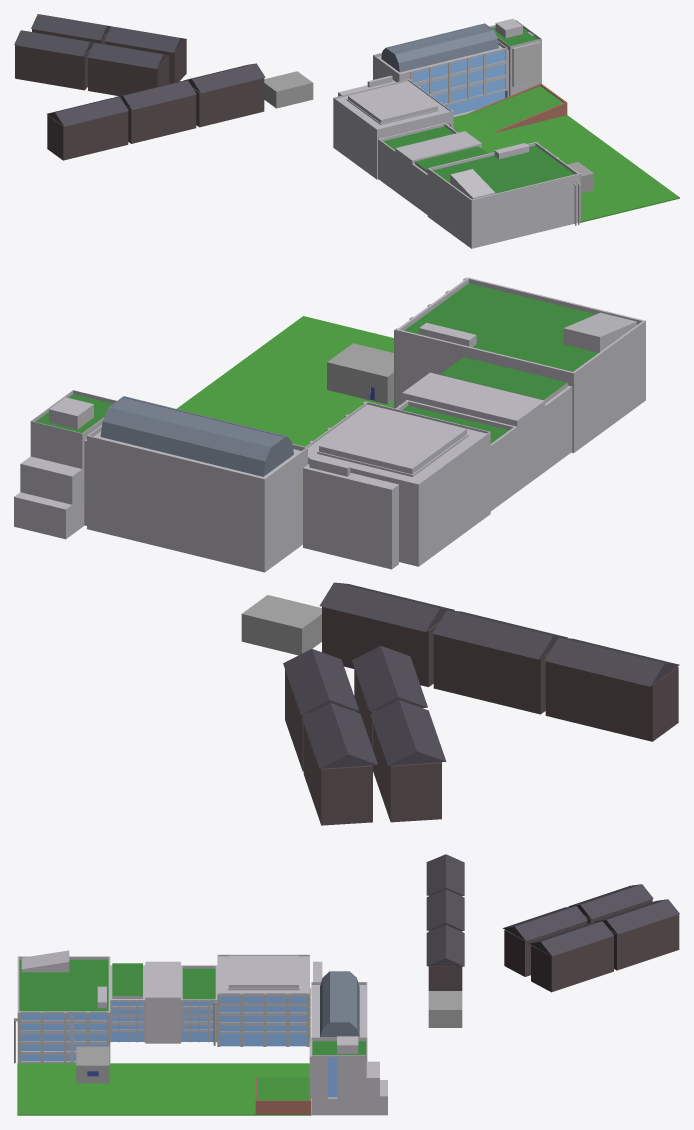
Rendered from Munhwa.fbx.
3 views of the same model, one above another, from view 1: azimuth 30°, elevation 25°; view 2: azimuth 150°, elevation 25°; view 3: azimuth 270°, elevation 25° (orthographic). The views are drawn at different scales.
Parts seen in each view (by area): view 1: Cube, Cube.010, Cube.008, Cylinder.001, Cylinder, Cube.016, Cube.001; view 2: Cube, Cube.010, Cylinder.001, Cube.008, Cylinder, Cube.016; view 3: Cube, Cube.008, Cylinder.001, Cube.010, Cube.001, Cube.016, Cylinder.
Part boxes in pixels (x1,y1,x2,y2): Cube: [333, 18, 579, 248]; Cube.010: [15, 29, 264, 160]; Cube.008: [453, 83, 679, 222]; Cylinder.001: [14, 14, 265, 126]; Cylinder: [381, 23, 498, 72]; Cube.016: [264, 71, 593, 193]; Cube.001: [409, 53, 580, 221]; Cube: [14, 277, 645, 572]; Cube.010: [285, 607, 678, 825]; Cylinder.001: [283, 582, 679, 768]; Cube.008: [176, 316, 393, 446]; Cylinder: [100, 396, 293, 476]; Cube.016: [241, 343, 393, 655]; Cube: [17, 950, 387, 1115]; Cube.008: [17, 1063, 311, 1115]; Cylinder.001: [426, 854, 679, 966]; Cube.010: [428, 895, 679, 992]; Cube.001: [17, 987, 310, 1063]; Cube.016: [76, 991, 462, 1083]; Cylinder: [320, 971, 359, 1037].
Size of the model in its own units: 6612 by 1057 by 8507.
